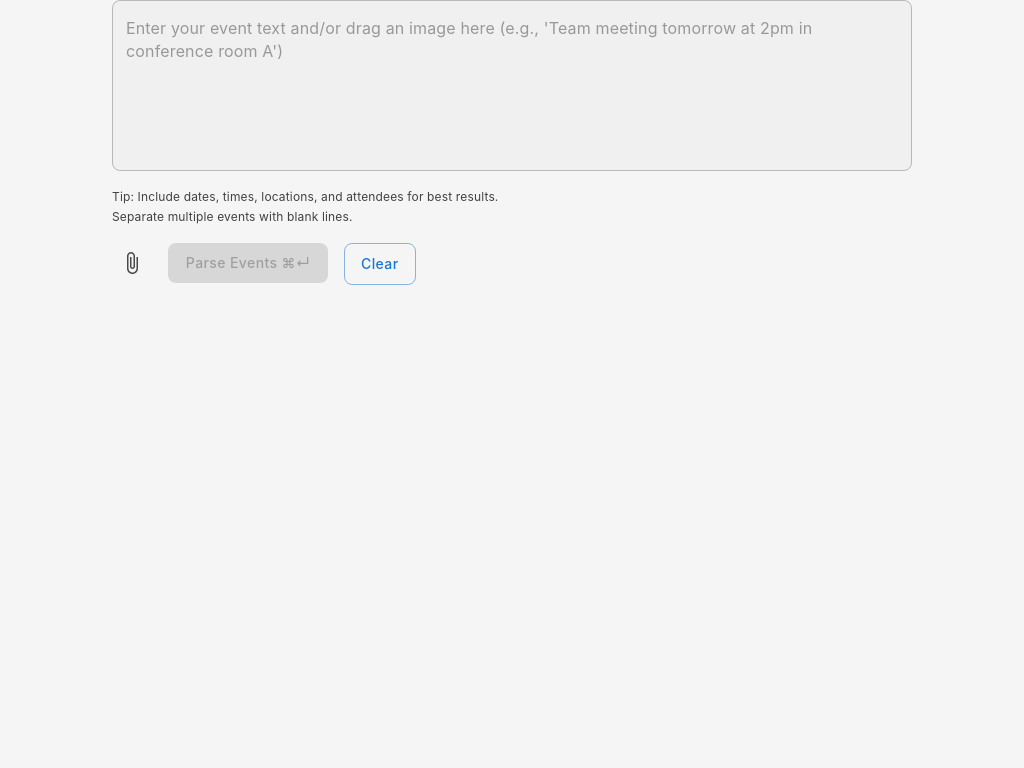
it: TextInputForm › with real AI integration › should handle multiple events from AI response
Type "Meeting at 9am then lunch at noon at Café Roma" into the text box at coordinates (512, 86), box 126,16 -> 898,154
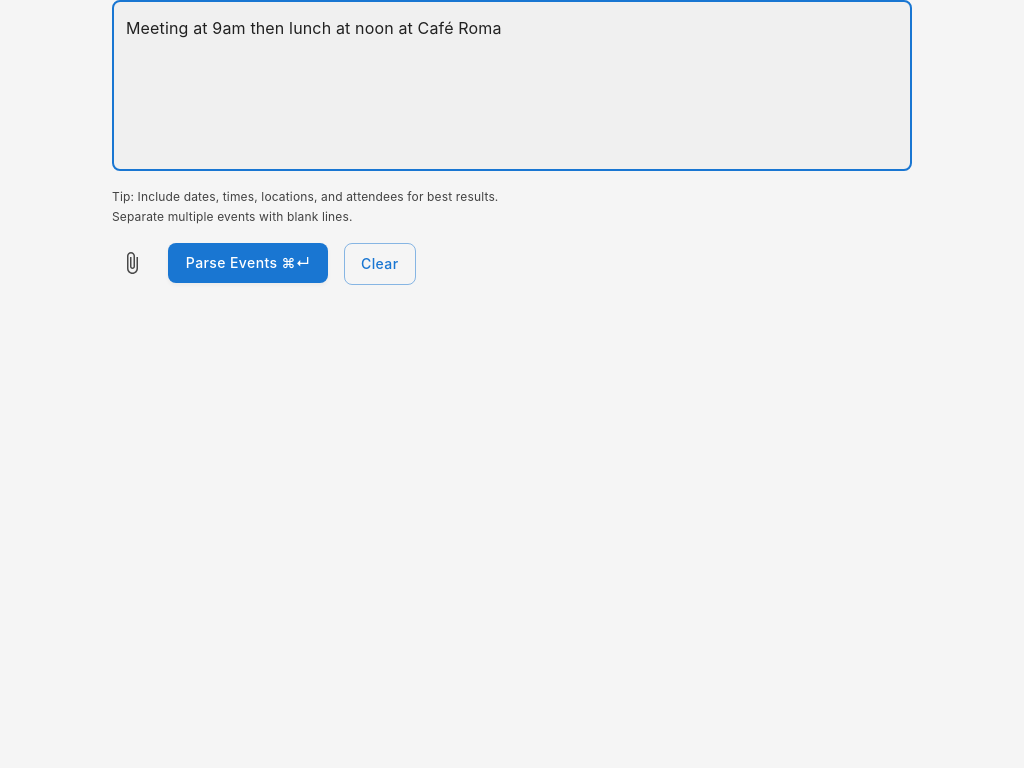
Click the button "Parse Events ⌘↵" at coordinates (248, 263), box 168,243 -> 328,283
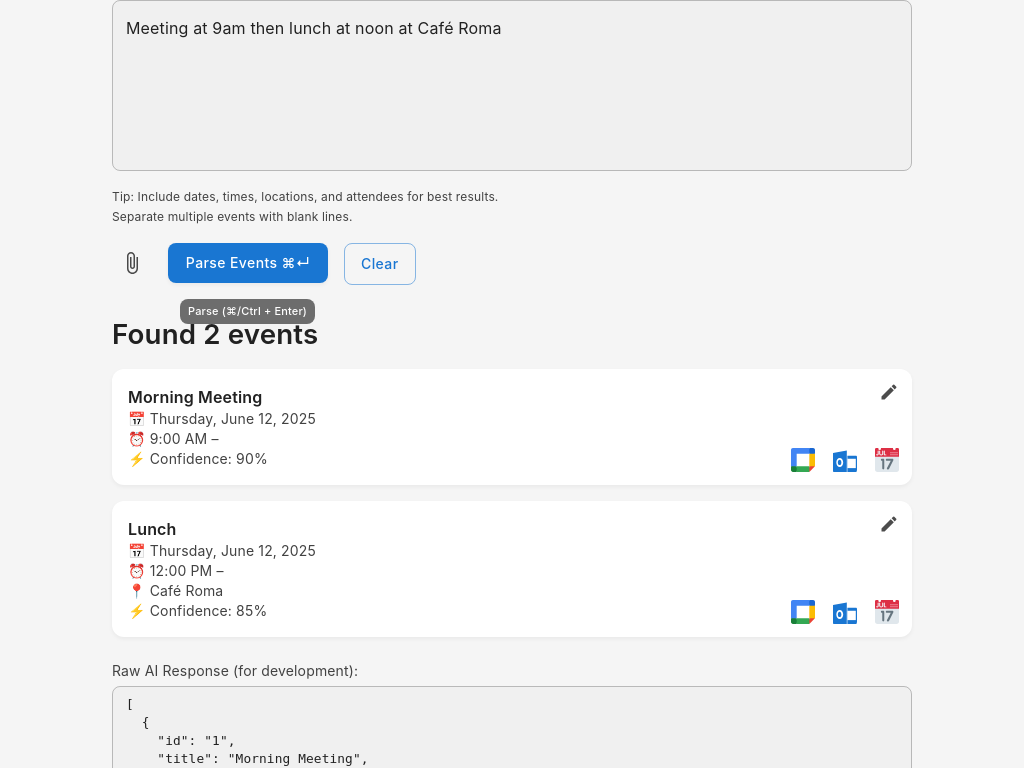
Expected: the heading "Found 2 events" is shown, 112,317 -> 318,351
